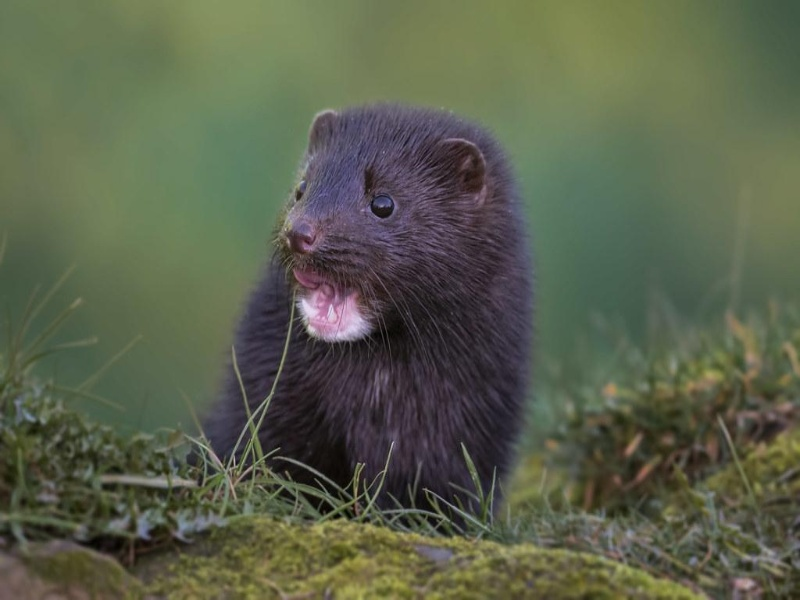minkish: (179, 99, 540, 516)
